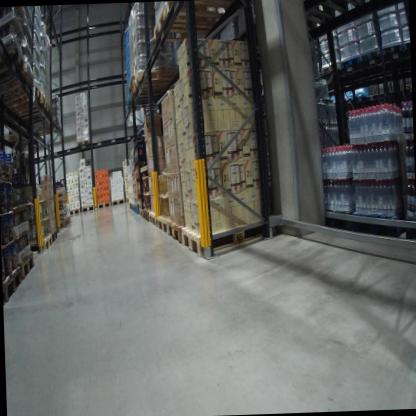pallet: (182, 204, 282, 262), (152, 4, 234, 48), (0, 62, 37, 109), (3, 80, 43, 122), (163, 0, 241, 21), (135, 67, 190, 96), (9, 104, 56, 133), (14, 90, 51, 125), (0, 36, 26, 84), (3, 262, 26, 307), (168, 214, 198, 246), (26, 234, 54, 256), (127, 87, 175, 99), (156, 211, 179, 236), (5, 130, 39, 145), (316, 60, 342, 79), (382, 38, 404, 60), (340, 52, 363, 73), (361, 44, 385, 63), (21, 251, 36, 281), (38, 125, 63, 140), (125, 77, 137, 96), (80, 203, 96, 215), (111, 195, 125, 208), (53, 218, 68, 230), (144, 203, 153, 222), (77, 138, 91, 150), (96, 200, 112, 210), (50, 230, 60, 244), (69, 206, 81, 217), (149, 210, 158, 224), (63, 216, 72, 228), (135, 201, 141, 215), (140, 206, 145, 219), (125, 195, 129, 204)
